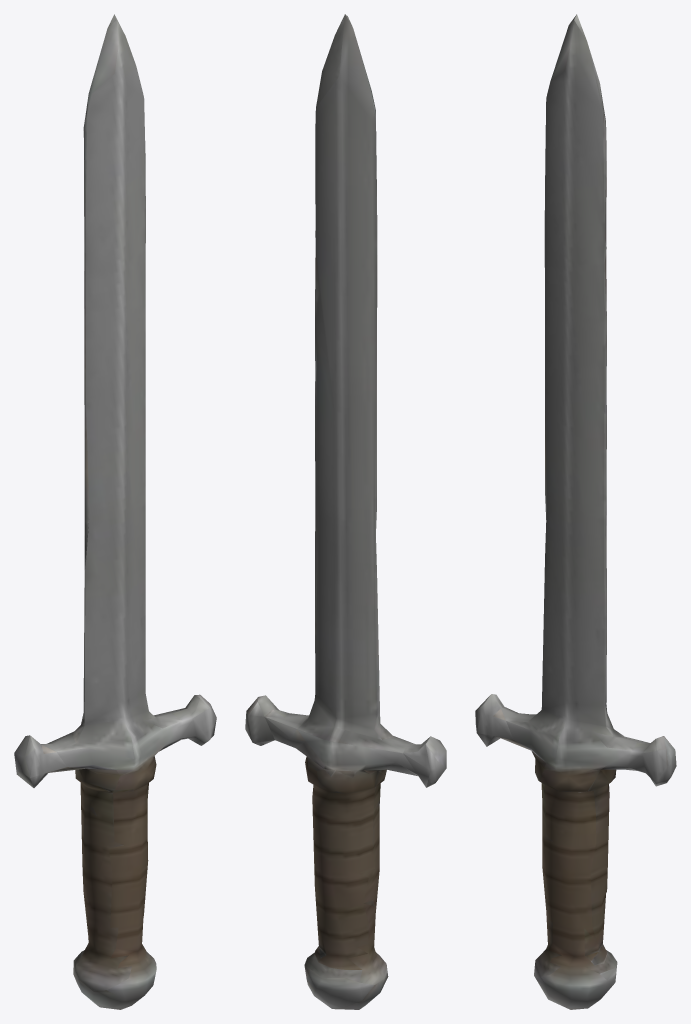
Rendered from wpn_sword2.glb.
3 renders of one model, left to right at view 1: azimuth 30°, elevation 25°; view 2: azimuth 150°, elevation 25°; view 3: azimuth 330°, elevation 25°, orthographic.
Size of the model in its own units: 0.3927 by 1.91 by 0.1466.
Materials: 1 (1 with a texture image).
